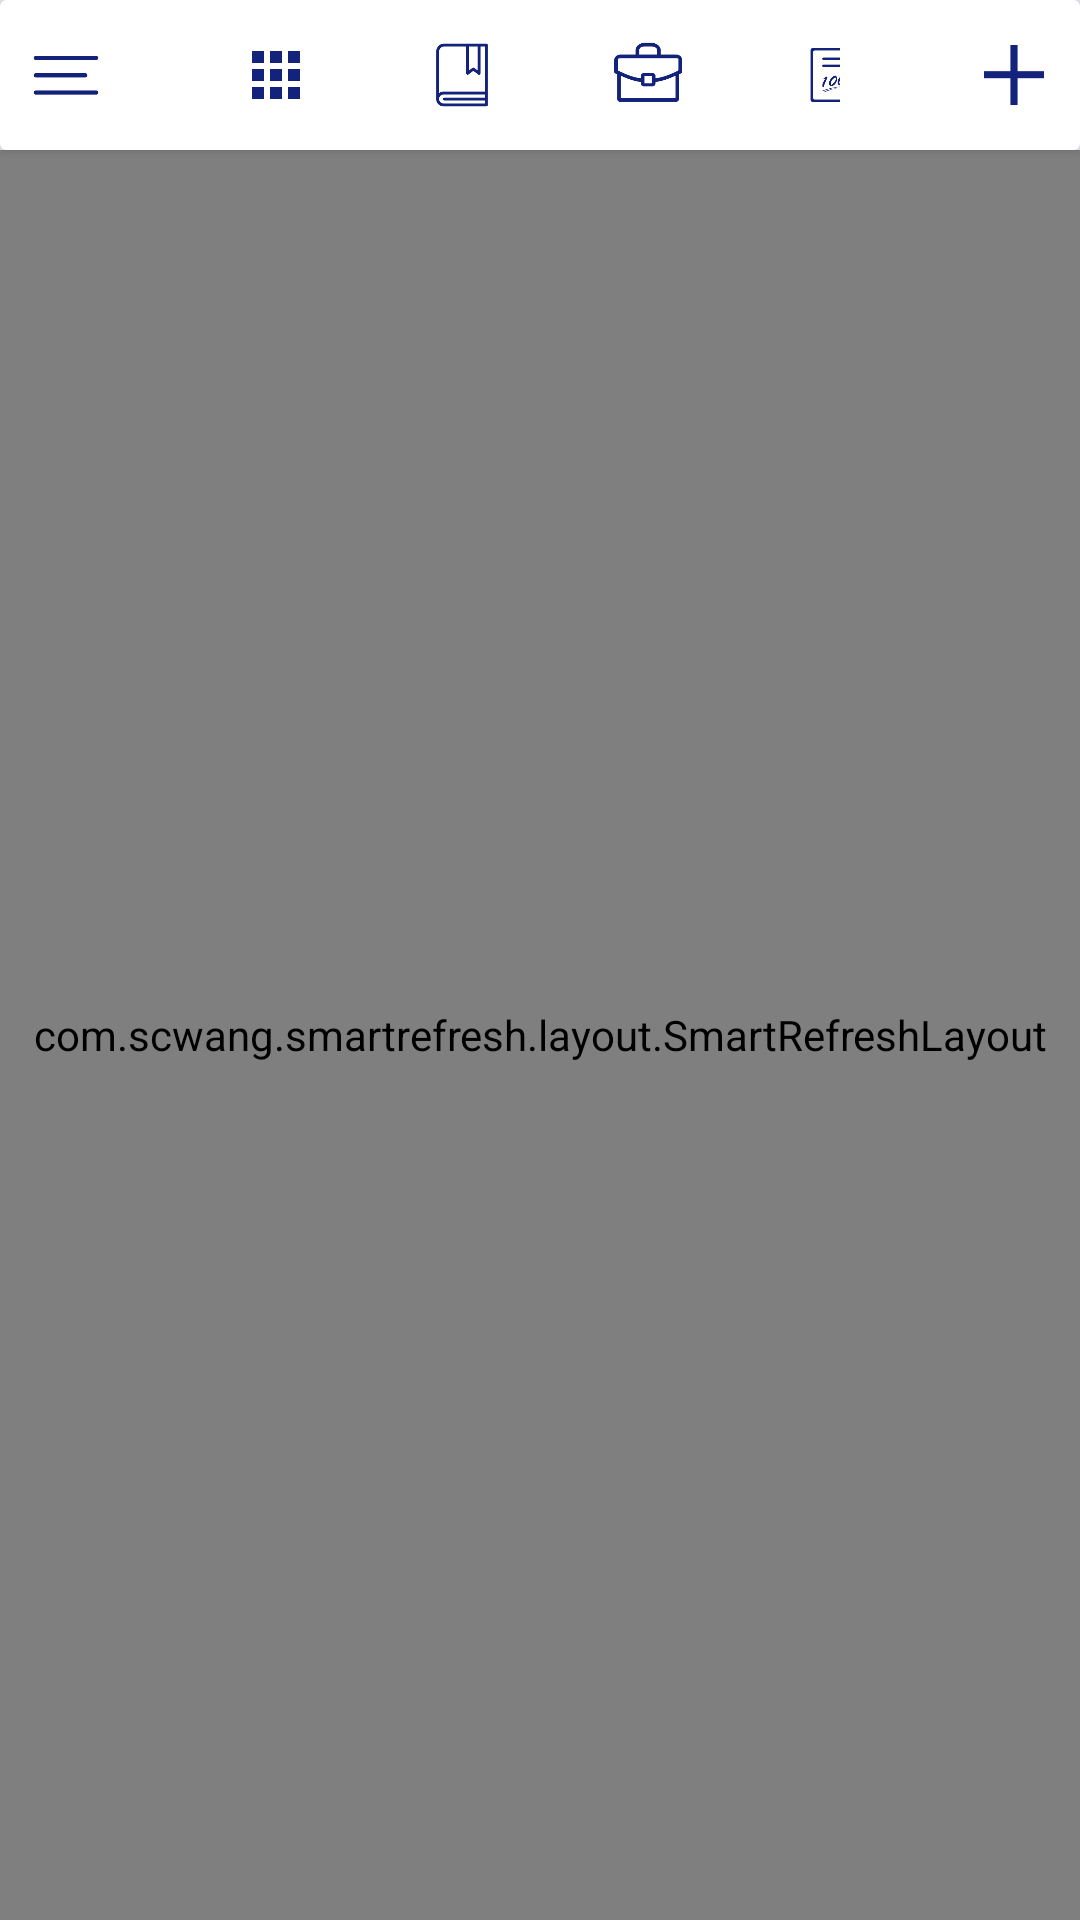

Screen size 1080px x 1920px. Icon name, then its center in pixels as (x=x, y=y):
add: (x=1014, y=75)
all: (x=276, y=75)
menu: (x=65, y=75)
study: (x=462, y=75)
work: (x=648, y=72)
